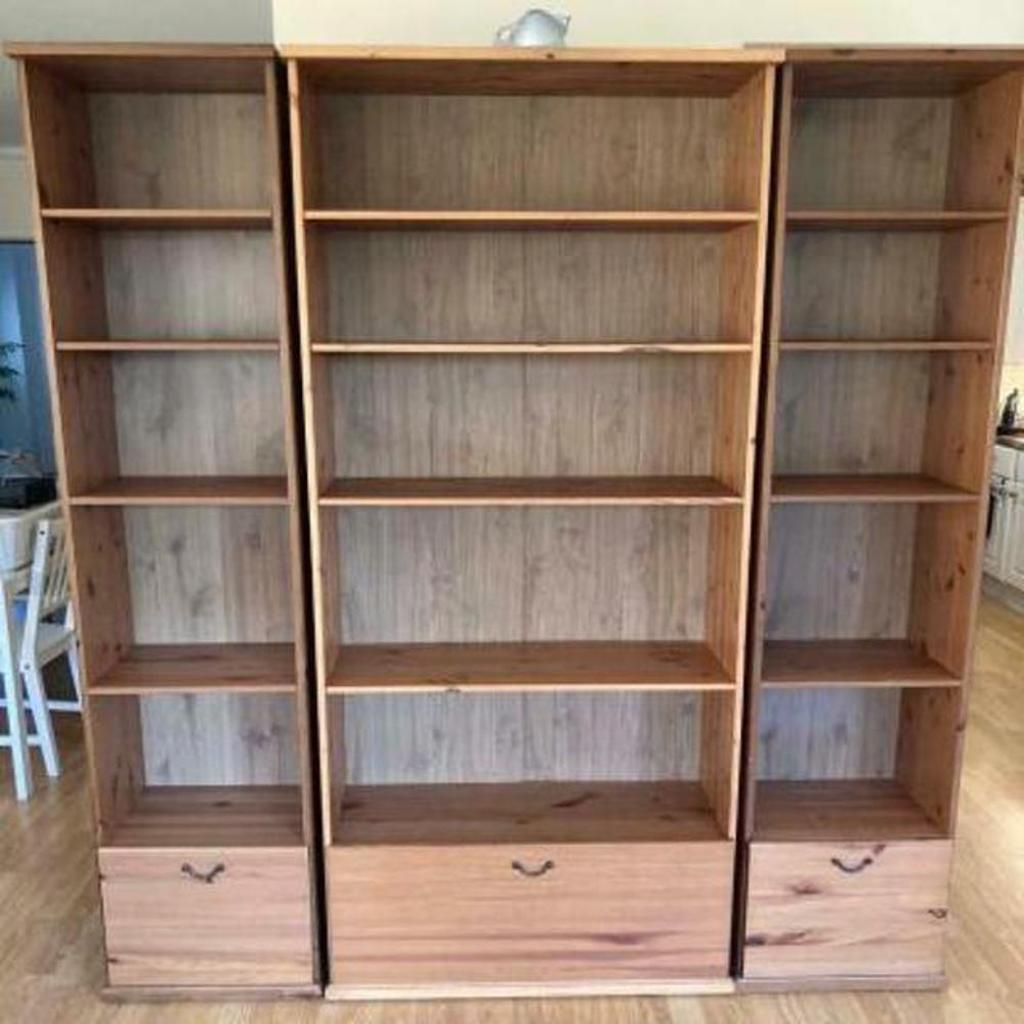lamp: (278, 43, 785, 1001), (0, 38, 330, 1001), (745, 40, 1023, 996)
